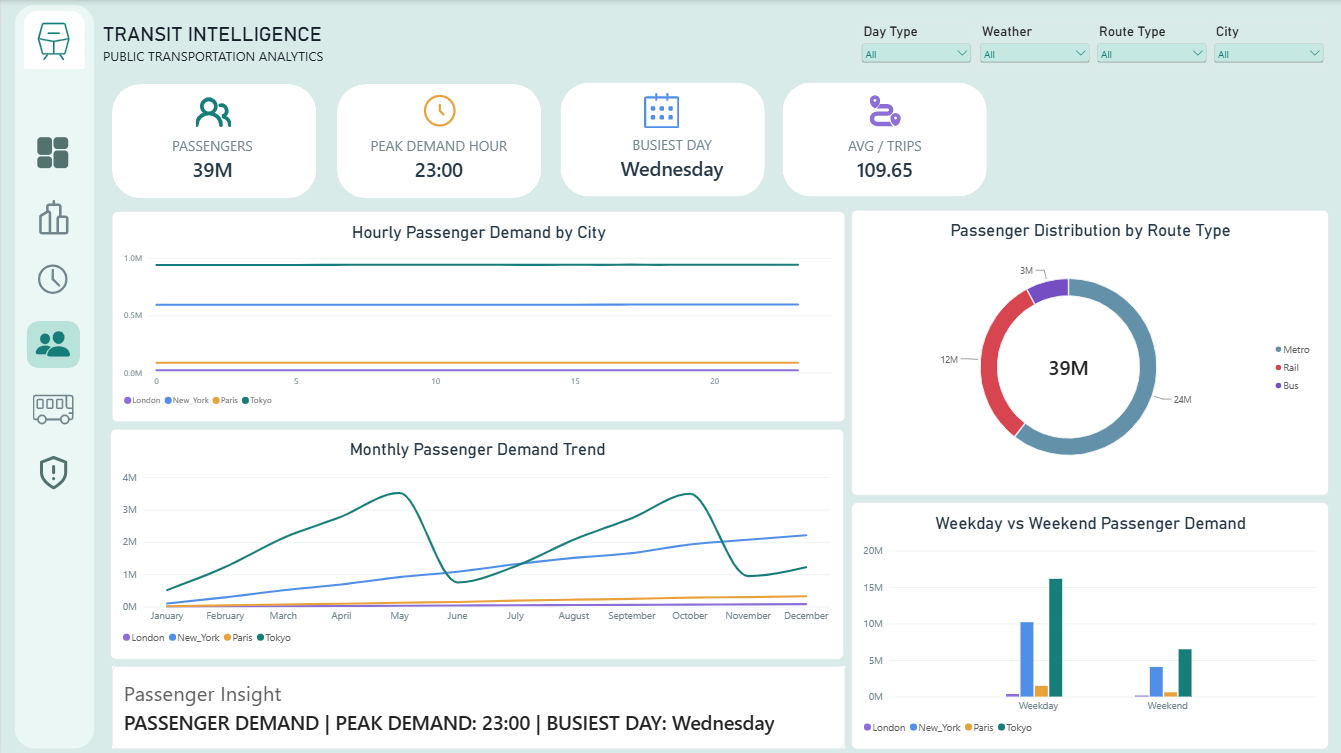

The dashboard page shown, as its layout file describes it:
{"tool":"powerbi","page":{"name":"\tPassenger Demand","canvas":[1920,1080],"ordinal":3},"visuals":[{"type":"shape","box":[19.5,7.3,114.7,1066.2],"z":0},{"type":"textbox","title":"TRANSIT INTELLIGENCE","box":[146.4,31.7,366,61],"z":1000},{"type":"shape","box":[31.4,15.9,87.7,84.1],"z":2000},{"type":"image","box":[35.5,26.4,78.2,63.6],"z":3000},{"type":"shape","box":[37.3,277.3,77.3,67.3],"z":4000},{"type":"shape","box":[37.3,367.3,77.3,67.3],"z":5000},{"type":"shape","box":[37.3,459.1,76.9,67.5],"z":6000},{"type":"shape","box":[37.3,551.8,76.9,67.5],"z":7000},{"type":"shape","box":[37.3,644.5,76.9,67.5],"z":8000},{"type":"image","box":[39.1,281.8,74,59],"z":9000},{"type":"image","box":[41.8,374.5,66.4,51.8],"z":10000},{"type":"image","box":[39.1,466.4,71.8,52.7],"z":11000},{"type":"image","box":[39.1,556.4,71.8,59.1],"z":12000},{"type":"image","box":[38.2,651.8,73.6,51.8],"z":13000},{"type":"actionButton","box":[46.3,286.3,58.4,49.5],"z":14000},{"type":"actionButton","box":[46.3,375.8,58.4,49.5],"z":15000},{"type":"actionButton","box":[46.2,468.8,58.4,49.5],"z":16000},{"type":"actionButton","box":[46,561,59,50],"z":17000},{"type":"actionButton","box":[46,653.3,58.4,49.5],"z":18000},{"type":"shape","box":[37.5,186.2,76.9,67.5],"z":19000},{"type":"image","box":[41,194,66.7,50.8],"z":20000},{"type":"actionButton","box":[46,195,58.4,49.5],"z":21000},{"type":"shape","box":[158.6,119.6,292.8,163.5],"z":22000},{"type":"shape","box":[481.1,120,292.8,163.5],"z":23000},{"type":"shape","box":[801.1,118.9,292.8,163.5],"z":24000},{"type":"shape","box":[1120,118.9,292.8,163.5],"z":25000},{"type":"cardVisual","fields":{"Data":["_Measures.Total Passengers"]},"box":[215.6,177.8,176.7,100],"z":26000},{"type":"cardVisual","fields":{"Data":["_Measures.Peak Demand Hour"]},"box":[509.9,178.1,236.7,100],"z":27000},{"type":"cardVisual","fields":{"Data":["_Measures.Busiest Day"]},"box":[861.3,178.1,199.3,99.7],"z":28000},{"type":"cardVisual","fields":{"Data":["_Measures.AVG / TRIPS"]},"box":[1177.8,177.8,177,100],"z":29000},{"type":"image","box":[271.2,135,66.7,50.8],"z":30000},{"type":"image","box":[595,133.8,66.7,50.8],"z":31000},{"type":"image","box":[913.8,133.8,66.7,50.8],"z":32000},{"type":"image","box":[1232.5,133.8,66.7,50.8],"z":33000},{"type":"lineChart","title":"Hourly Passenger Demand by City","fields":{"Category":["public_transportation_cleaned.Hour"],"Series":["public_transportation_cleaned.city"],"Y":["_Measures.PASSENGERS"]},"box":[158.9,302.2,1050,301.1],"z":34000},{"type":"slicer","fields":{"Values":["public_transportation_cleaned.city"]},"box":[1732.3,31.7,168.3,68.3],"z":35000},{"type":"slicer","fields":{"Values":["public_transportation_cleaned.route_type"]},"box":[1563.9,31.7,168.3,68.3],"z":36000},{"type":"slicer","fields":{"Values":["public_transportation_cleaned.weather_condition"]},"box":[1395.7,31.4,168.3,68.3],"z":37000},{"type":"clusteredColumnChart","title":"Weekday vs Weekend Passenger Demand","fields":{"Category":["public_transportation_cleaned.Day Type"],"Series":["public_transportation_cleaned.city"],"Y":["_Measures.PASSENGERS"]},"box":[1217.8,720,683.3,353.3],"z":38000},{"type":"donutChart","title":"Passenger Distribution by Route Type","fields":{"Category":["public_transportation_cleaned.route_type"],"Y":["_Measures.PASSENGERS"]},"box":[1217.8,301.1,683.3,408.9],"z":39000},{"type":"lineChart","title":"Monthly Passenger Demand Trend","fields":{"Category":["public_transportation_cleaned.timestamp.Variation.Date Hierarchy.Month"],"Series":["public_transportation_cleaned.city"],"Y":["_Measures.PASSENGERS"]},"box":[157.5,615,1050,330],"z":40000},{"type":"slicer","fields":{"Values":["public_transportation_cleaned.Day Type"]},"box":[1227.2,31.7,168.3,68.3],"z":41000},{"type":"cardVisual","fields":{"Data":["_Measures.Passenger Demand Insight"]},"box":[158.9,953.7,1050.9,118.6],"z":42000},{"type":"actionButton","box":[31.4,25.7,87.1,74.3],"z":43000}]}

Visuals, with their boxes on the page's 1920x1080 design canvas (x1, y1, x2, y2). These are canvas units, not pixel positions in the 1341x753 screenshot, which may show the page scaled, cropped or inside an application window:
shape: rect(20, 7, 134, 1074)
"TRANSIT INTELLIGENCE" textbox: rect(146, 32, 512, 93)
shape: rect(31, 16, 119, 100)
image: rect(36, 26, 114, 90)
shape: rect(37, 277, 115, 345)
shape: rect(37, 367, 115, 435)
shape: rect(37, 459, 114, 527)
shape: rect(37, 552, 114, 619)
shape: rect(37, 644, 114, 712)
image: rect(39, 282, 113, 341)
image: rect(42, 374, 108, 426)
image: rect(39, 466, 111, 519)
image: rect(39, 556, 111, 616)
image: rect(38, 652, 112, 704)
actionButton: rect(46, 286, 105, 336)
actionButton: rect(46, 376, 105, 425)
actionButton: rect(46, 469, 105, 518)
actionButton: rect(46, 561, 105, 611)
actionButton: rect(46, 653, 104, 703)
shape: rect(38, 186, 114, 254)
image: rect(41, 194, 108, 245)
actionButton: rect(46, 195, 104, 244)
shape: rect(159, 120, 451, 283)
shape: rect(481, 120, 774, 284)
shape: rect(801, 119, 1094, 282)
shape: rect(1120, 119, 1413, 282)
cardVisual - _Measures.Total Passengers: rect(216, 178, 392, 278)
cardVisual - _Measures.Peak Demand Hour: rect(510, 178, 747, 278)
cardVisual - _Measures.Busiest Day: rect(861, 178, 1061, 278)
cardVisual - _Measures.AVG / TRIPS: rect(1178, 178, 1355, 278)
image: rect(271, 135, 338, 186)
image: rect(595, 134, 662, 185)
image: rect(914, 134, 980, 185)
image: rect(1232, 134, 1299, 185)
"Hourly Passenger Demand by City" lineChart: rect(159, 302, 1209, 603)
slicer - public_transportation_cleaned.city: rect(1732, 32, 1901, 100)
slicer - public_transportation_cleaned.route_type: rect(1564, 32, 1732, 100)
slicer - public_transportation_cleaned.weather_condition: rect(1396, 31, 1564, 100)
"Weekday vs Weekend Passenger Demand" clusteredColumnChart: rect(1218, 720, 1901, 1073)
"Passenger Distribution by Route Type" donutChart: rect(1218, 301, 1901, 710)
"Monthly Passenger Demand Trend" lineChart: rect(158, 615, 1208, 945)
slicer - public_transportation_cleaned.Day Type: rect(1227, 32, 1396, 100)
cardVisual - _Measures.Passenger Demand Insight: rect(159, 954, 1210, 1072)
actionButton: rect(31, 26, 118, 100)
